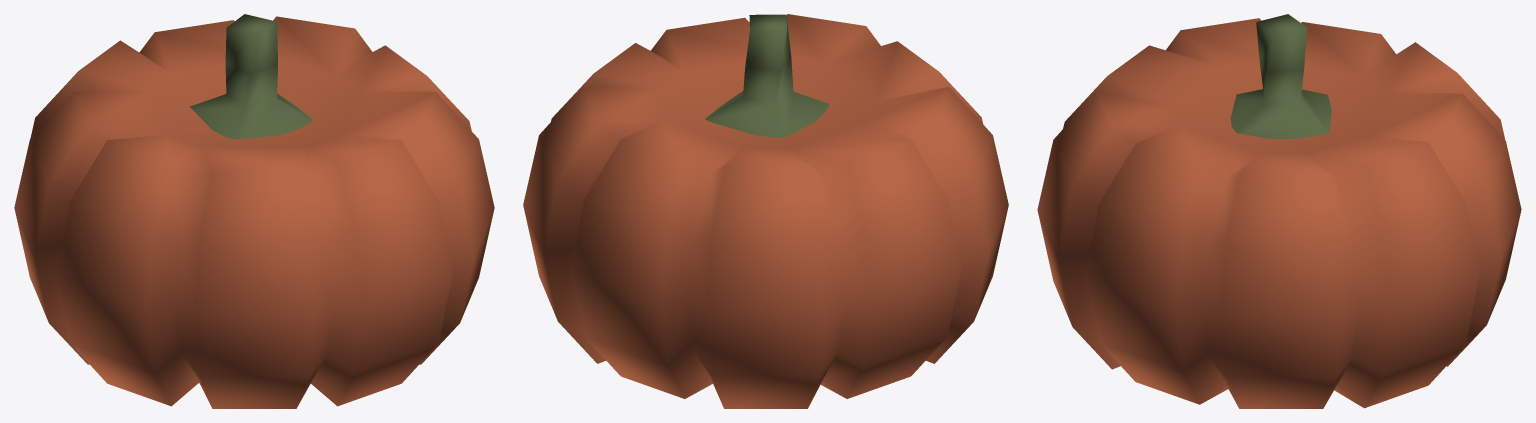
Rendered from green_06.glb.
The picture shows the model from 3 angles, left to right: view 1: azimuth 30°, elevation 25°; view 2: azimuth 150°, elevation 25°; view 3: azimuth 270°, elevation 25°; orthographic projection.
Visible parts, largest first — view 1: green_06; view 2: green_06; view 3: green_06.
Boxes of the visible parts, x1,y1,x2,y2 form: green_06: (14, 14, 494, 408); green_06: (523, 14, 1008, 408); green_06: (1037, 14, 1521, 408).
Bounding box in the file's own units: 0.4421 × 0.3215 × 0.4508.
Materials: 1 (1 with a texture image).
